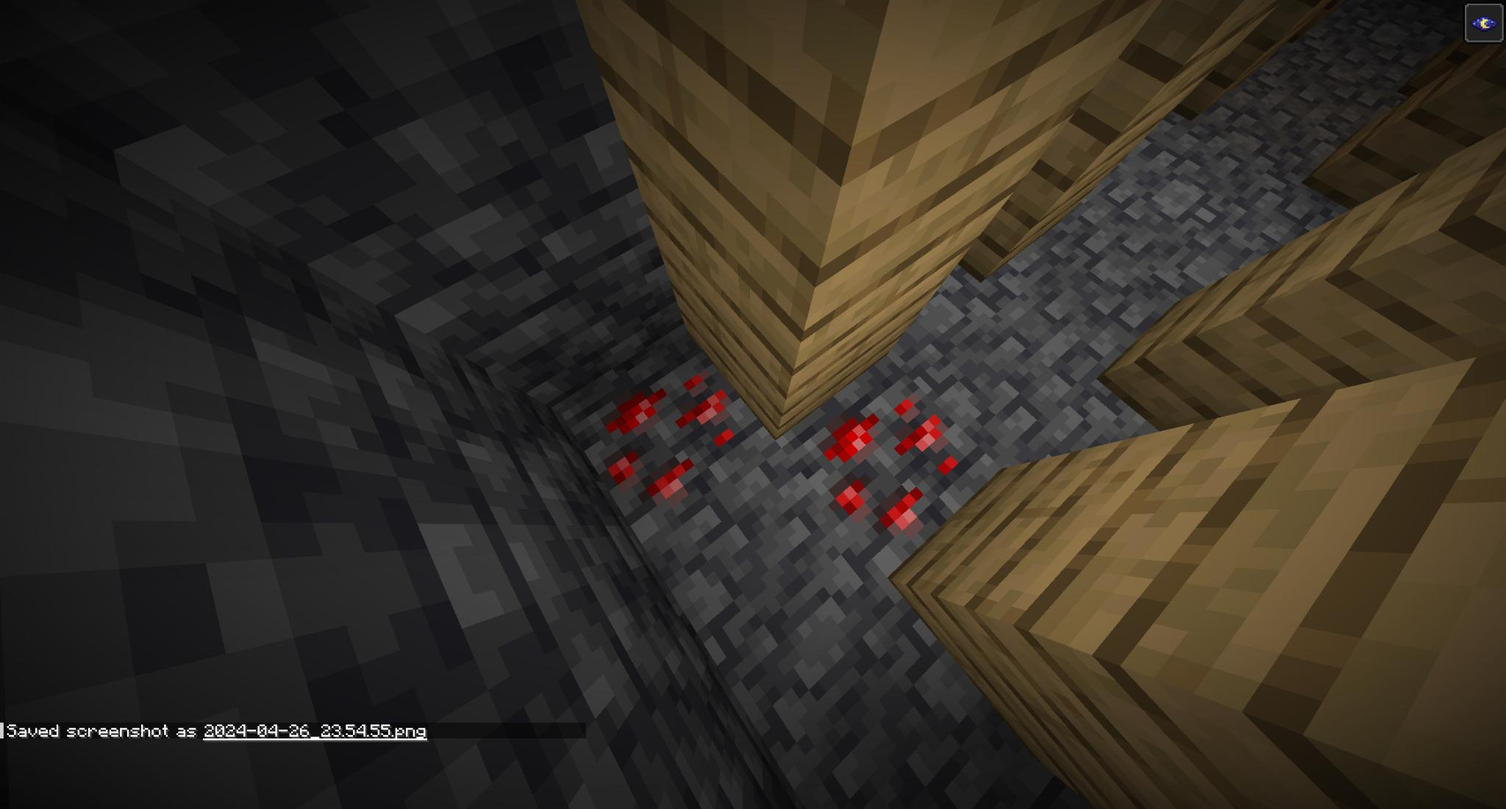redstone ore: (810, 385, 963, 546), (598, 375, 746, 509)
